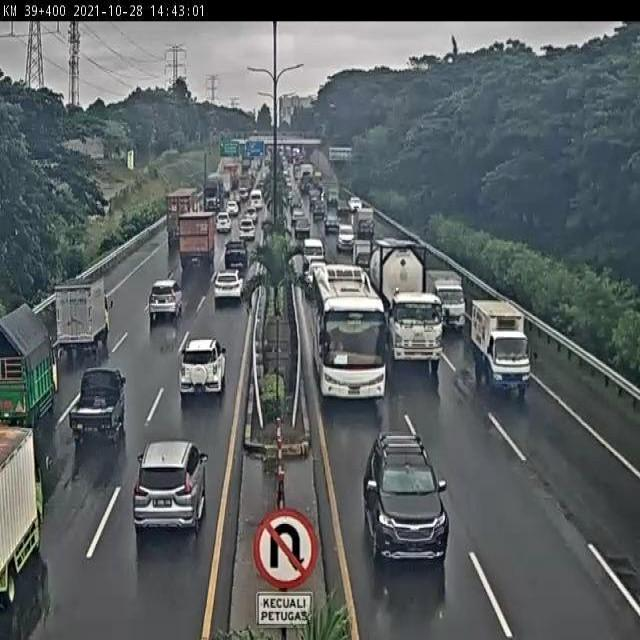big truck: (178, 210, 218, 270), (167, 185, 201, 248)
bus-l-: (311, 263, 389, 409)
car: (365, 431, 449, 572), (134, 439, 210, 533), (179, 338, 225, 402), (149, 280, 183, 321), (214, 268, 245, 303), (226, 239, 249, 269), (303, 236, 324, 265), (217, 211, 232, 233), (240, 218, 256, 238)
small truck: (0, 302, 64, 430), (55, 274, 114, 354), (71, 367, 126, 442)
truck-s-: (472, 297, 539, 400), (426, 268, 465, 336)
truck-xl-: (371, 234, 444, 370)
